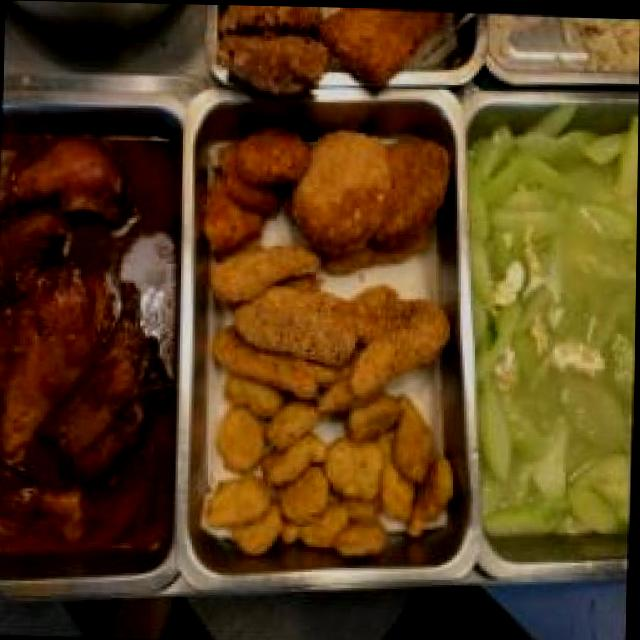chicken_nuggets: (207, 387, 459, 564)
triangle_hash_brown: (202, 122, 312, 256)
